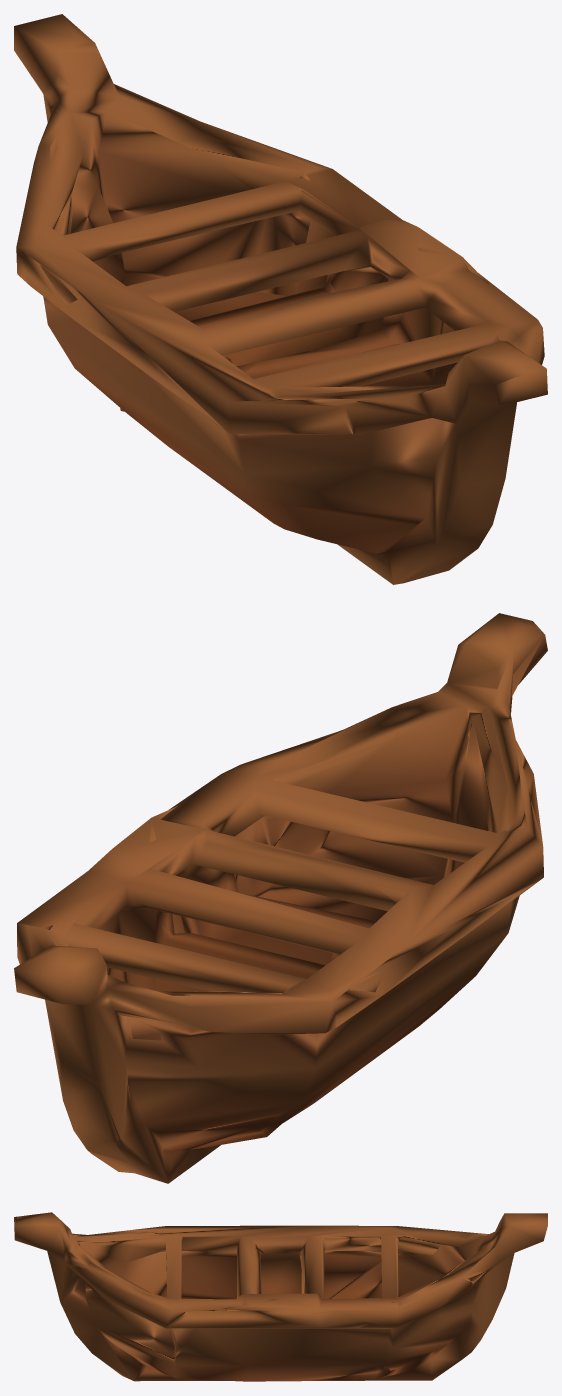
Rendered from gen3d-wooden-ark-boat-lod1.glb.
The picture shows the model from 3 angles, top to bottom: view 1: azimuth 30°, elevation 25°; view 2: azimuth 150°, elevation 25°; view 3: azimuth 270°, elevation 25°; orthographic projection. The views are drawn at different scales.
Parts seen in each view (by area): view 1: part_0; view 2: part_0; view 3: part_0.
Part boxes in pixels (x1,y1,x2,y2): part_0: [14, 14, 547, 584]; part_0: [14, 613, 547, 1183]; part_0: [14, 1212, 547, 1381].
Size of the model in its own units: 1.17 by 0.9997 by 3.09.
